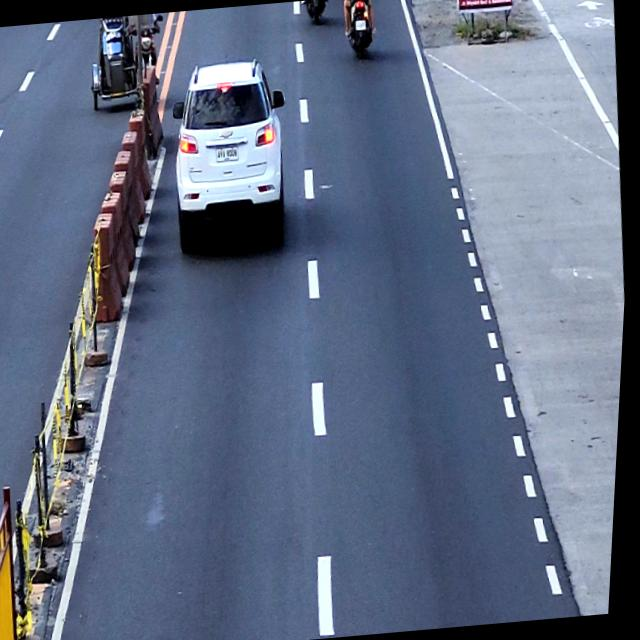Car: (163, 54, 300, 252)
License-Plate: (215, 142, 241, 162), (354, 19, 367, 32)
Motorcycle: (340, 0, 379, 60), (298, 0, 330, 25)
Tricycle: (85, 12, 171, 108)
